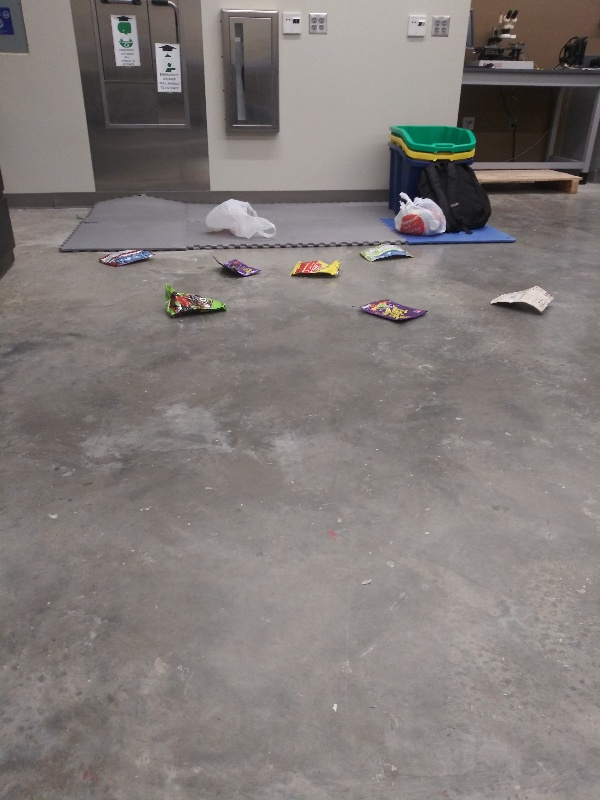bag: (487, 282, 558, 318), (162, 282, 230, 319), (357, 294, 433, 327), (212, 250, 262, 282), (96, 247, 159, 268), (287, 255, 344, 278), (354, 242, 416, 263)
